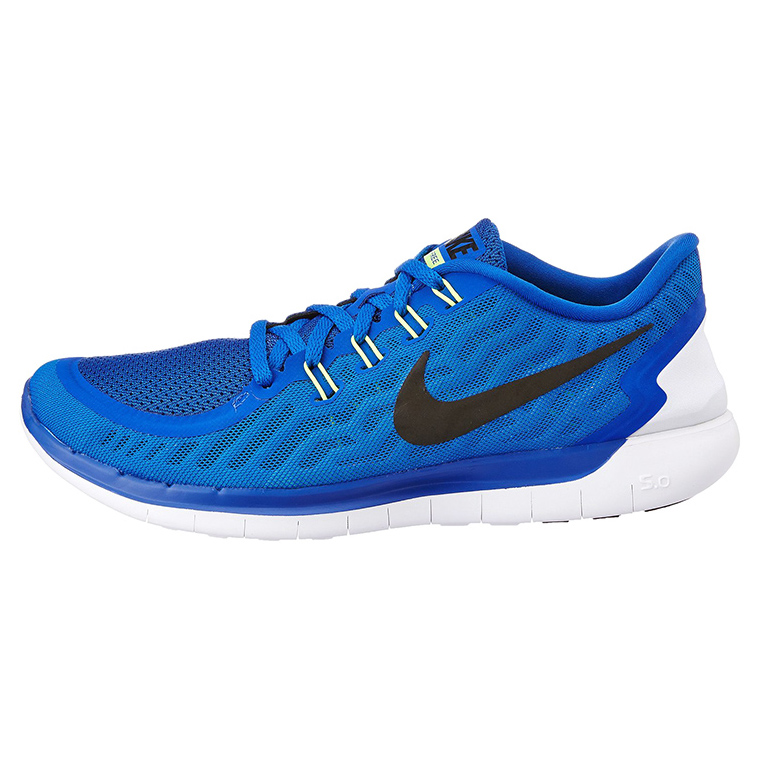Nike: (389, 317, 660, 451)
